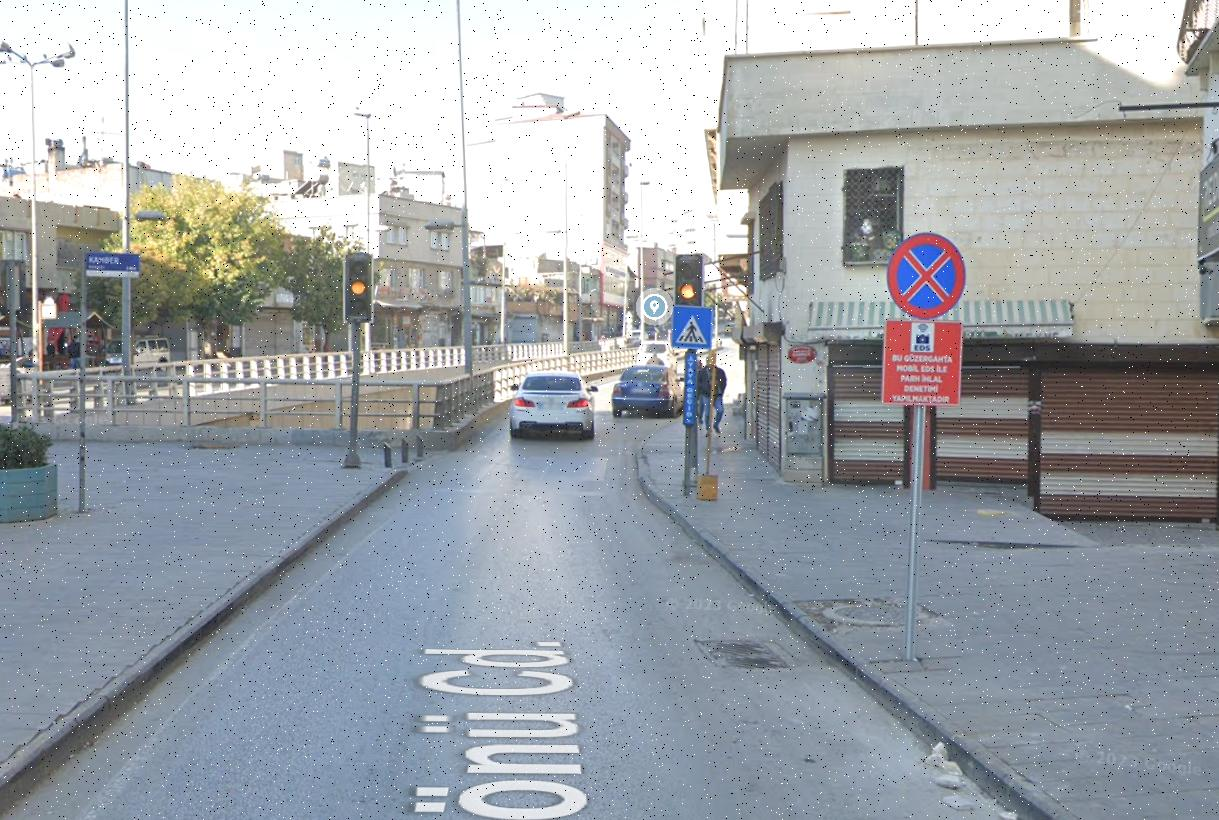yellowlight: (347, 250, 372, 318), (677, 254, 704, 309)
